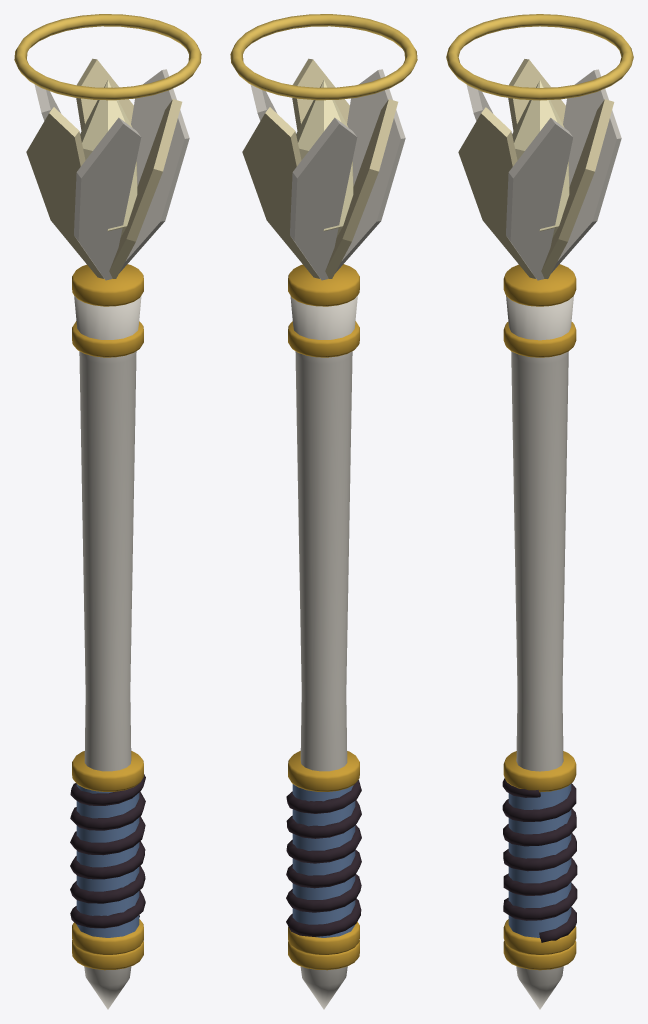
File: mace_grace.fbx
3 renders of one model, left to right at view 1: azimuth 30°, elevation 25°; view 2: azimuth 150°, elevation 25°; view 3: azimuth 270°, elevation 25°, orthographic.
Visible parts, largest first — view 1: mace_grace; view 2: mace_grace; view 3: mace_grace.
Part boxes in pixels (x1,y1,x2,y2): mace_grace: (14, 14, 201, 1009); mace_grace: (230, 14, 417, 1009); mace_grace: (446, 14, 633, 1009).
Bounding box in the file's own units: 0.15 × 0.8443 × 0.15.
